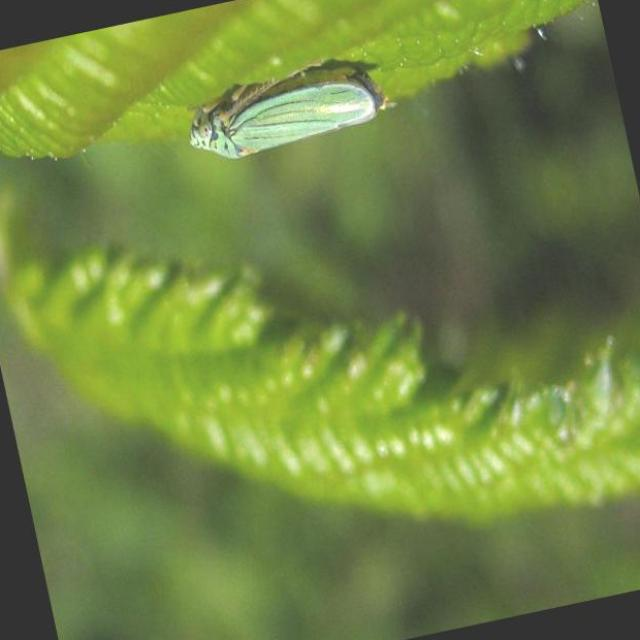green leaf hopper: (191, 65, 393, 159)
